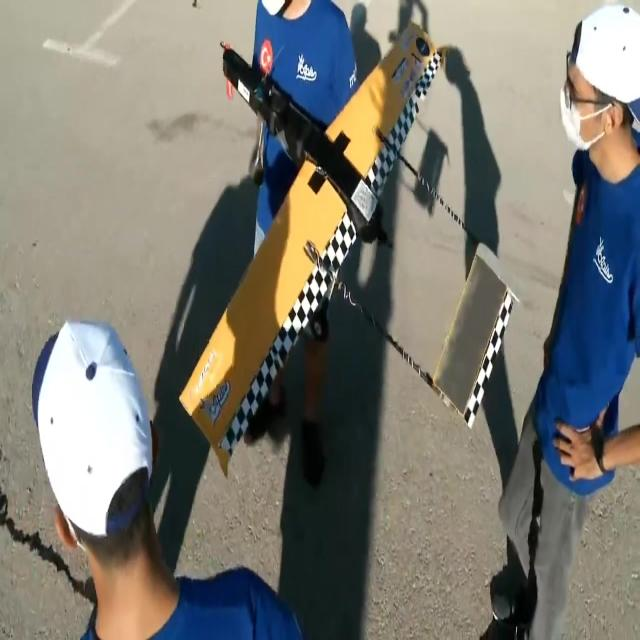iha: (177, 17, 523, 482)
